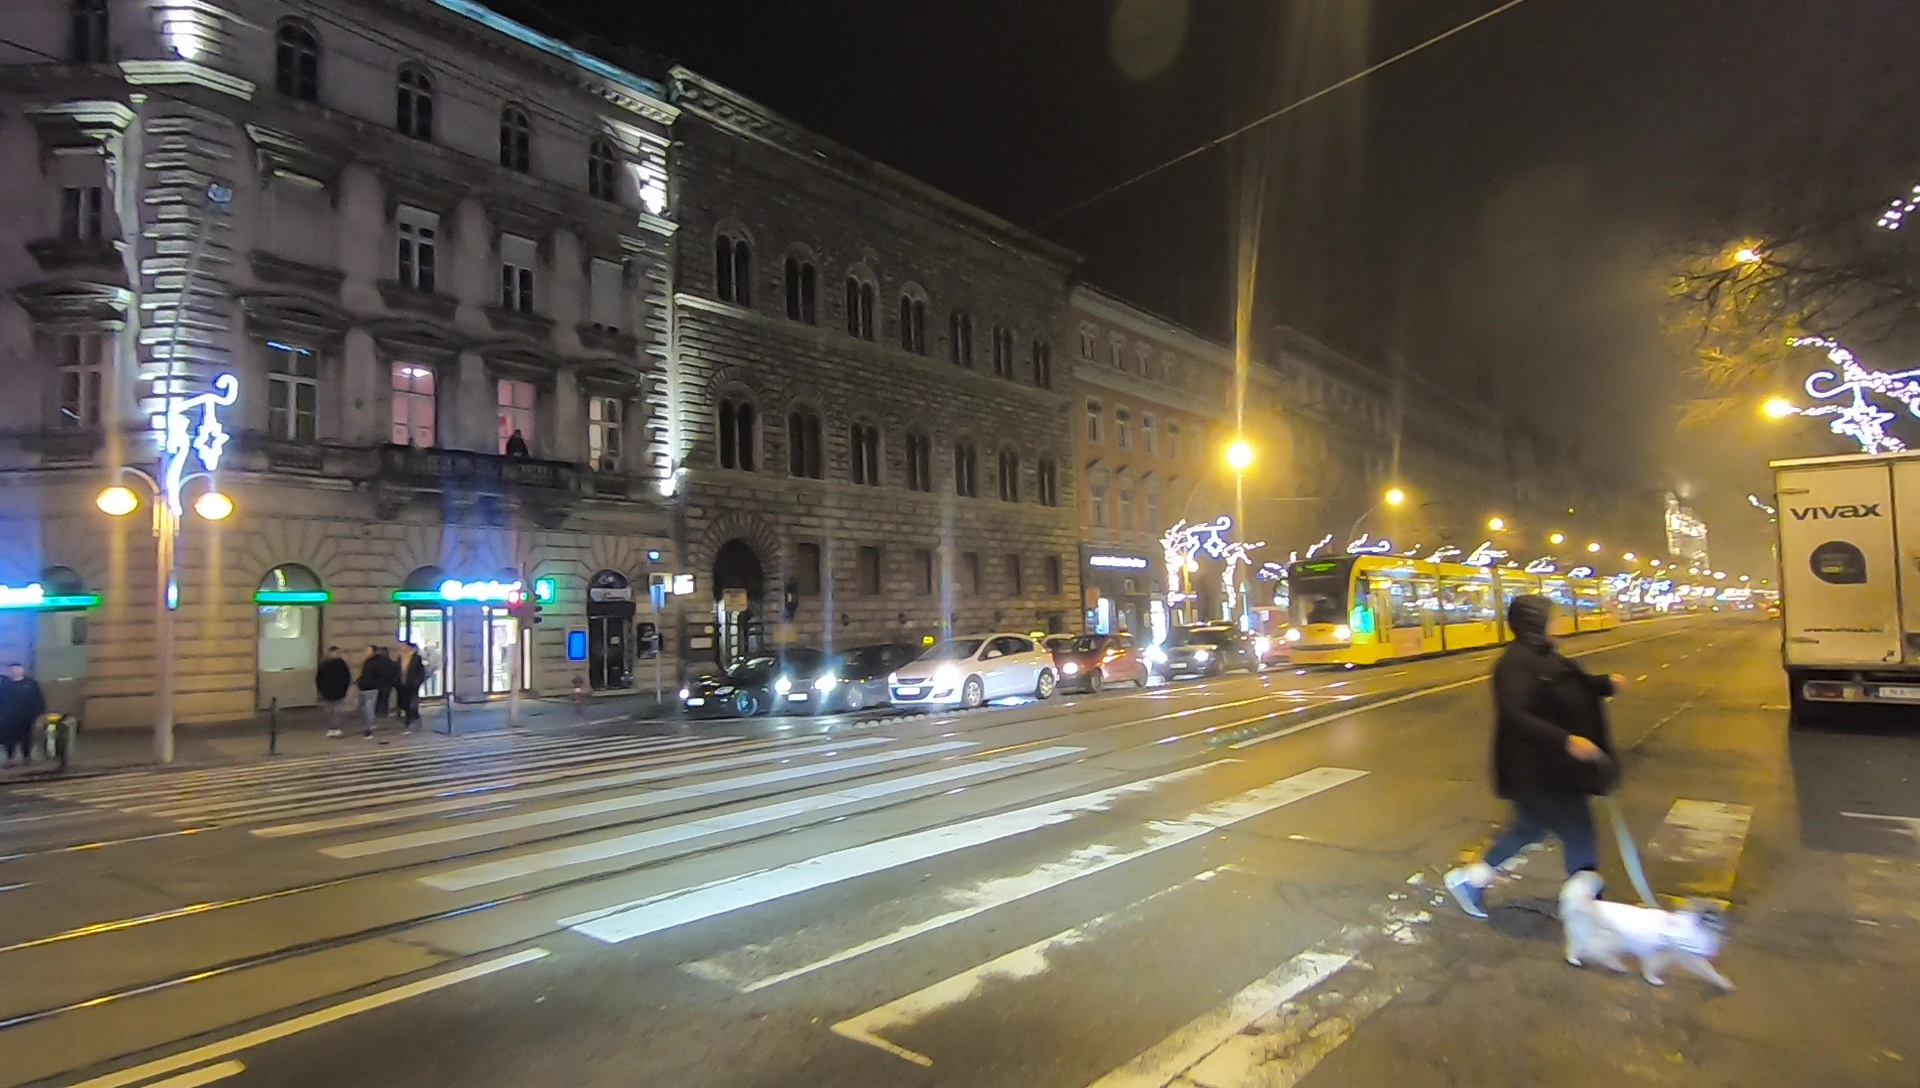person: (1451, 595, 1626, 928), (2, 663, 47, 773), (315, 647, 349, 728), (356, 645, 386, 732), (397, 643, 428, 724)
